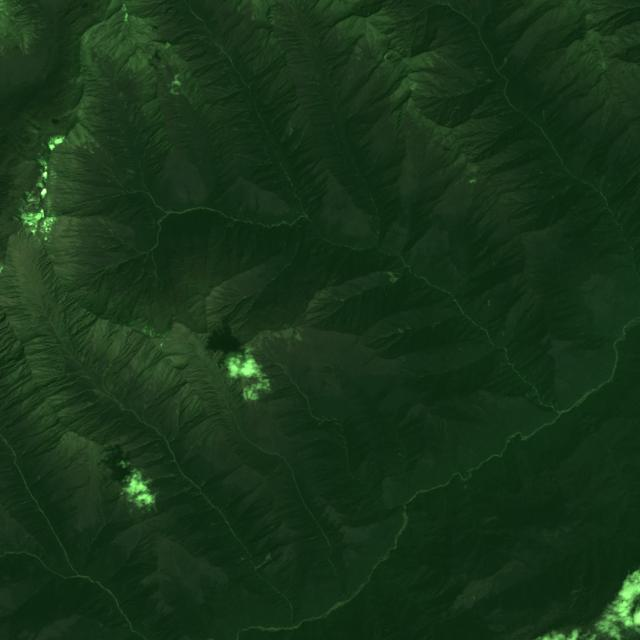landslides: (430, 51, 477, 86), (61, 393, 104, 422), (122, 254, 149, 298), (98, 162, 128, 193), (152, 251, 173, 290), (323, 247, 337, 282), (149, 284, 161, 305), (420, 53, 436, 68), (311, 240, 325, 256), (143, 273, 154, 292), (101, 242, 123, 251), (469, 449, 483, 463), (626, 609, 637, 623), (599, 175, 607, 194), (569, 594, 580, 607), (475, 62, 492, 70), (560, 186, 571, 198), (134, 128, 142, 144), (498, 57, 507, 71), (387, 272, 399, 282), (401, 320, 412, 330), (236, 555, 248, 564), (618, 603, 636, 609), (525, 394, 538, 402), (444, 420, 449, 440)
